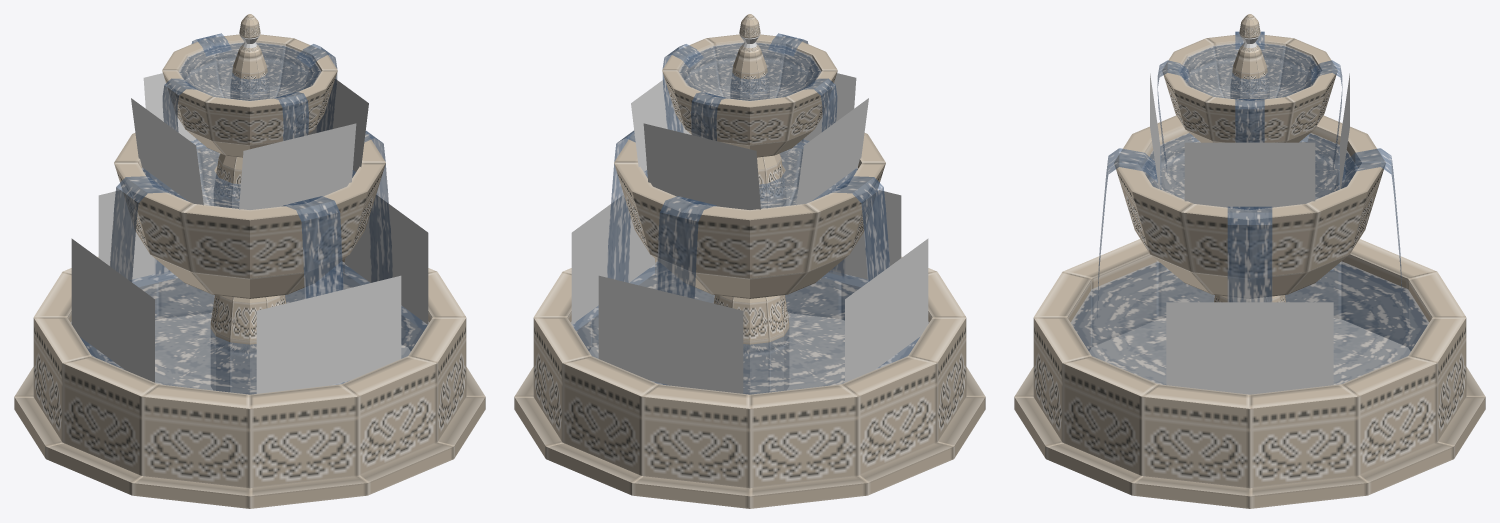
File: fountain.fbx
3 renders of one model, left to right at view 1: azimuth 30°, elevation 25°; view 2: azimuth 150°, elevation 25°; view 3: azimuth 270°, elevation 25°, orthographic.
Parts seen in each view (by area): view 1: 분수1단, water particles.001, 분수2단, 분수3단, Falling water.008, 분수바닥, 분수 물, 분수 물3, 분수1단 기둥, 분수3단 기둥.002, 분수 물2, 분수2단 기둥; view 2: 분수1단, water particles.001, 분수2단, 분수3단, Falling water.008, 분수바닥, 분수 물, 분수 물3, 분수1단 기둥, 분수3단 기둥.002, 분수 물2, 분수2단 기둥; view 3: 분수1단, 분수2단, water particles.001, 분수 물, 분수3단, 분수바닥, Falling water.008, 분수 물3, 분수 물2, 분수3단 기둥.002.
Part boxes in pixels (bbox=[...]): 분수1단: bbox=[33, 256, 466, 488]; water particles.001: bbox=[71, 73, 428, 393]; 분수2단: bbox=[114, 133, 385, 298]; 분수3단: bbox=[162, 34, 337, 157]; Falling water.008: bbox=[110, 33, 392, 298]; 분수바닥: bbox=[14, 367, 485, 508]; 분수 물: bbox=[71, 262, 428, 394]; 분수 물3: bbox=[178, 42, 321, 100]; 분수1단 기둥: bbox=[210, 295, 286, 394]; 분수3단 기둥.002: bbox=[230, 14, 269, 100]; 분수 물2: bbox=[141, 140, 355, 208]; 분수2단 기둥: bbox=[213, 153, 242, 208]; 분수1단: bbox=[533, 256, 966, 488]; water particles.001: bbox=[571, 73, 928, 393]; 분수2단: bbox=[614, 133, 885, 298]; 분수3단: bbox=[662, 34, 837, 157]; Falling water.008: bbox=[607, 33, 889, 298]; 분수바닥: bbox=[514, 367, 985, 508]; 분수 물: bbox=[571, 262, 928, 394]; 분수 물3: bbox=[678, 42, 821, 100]; 분수1단 기둥: bbox=[713, 295, 789, 394]; 분수3단 기둥.002: bbox=[730, 14, 769, 100]; 분수 물2: bbox=[644, 140, 858, 208]; 분수2단 기둥: bbox=[757, 153, 786, 208]; 분수1단: bbox=[1033, 239, 1466, 488]; 분수2단: bbox=[1114, 115, 1385, 298]; water particles.001: bbox=[1150, 73, 1349, 394]; 분수 물: bbox=[1071, 261, 1428, 384]; 분수3단: bbox=[1162, 34, 1337, 142]; 분수바닥: bbox=[1014, 367, 1485, 508]; Falling water.008: bbox=[1097, 31, 1402, 318]; 분수 물3: bbox=[1179, 43, 1320, 100]; 분수 물2: bbox=[1142, 133, 1357, 199]; 분수3단 기둥.002: bbox=[1230, 14, 1269, 99].
Bounding box in the file's own units: 300 × 277 × 300.
4 materials, 3 textured.
